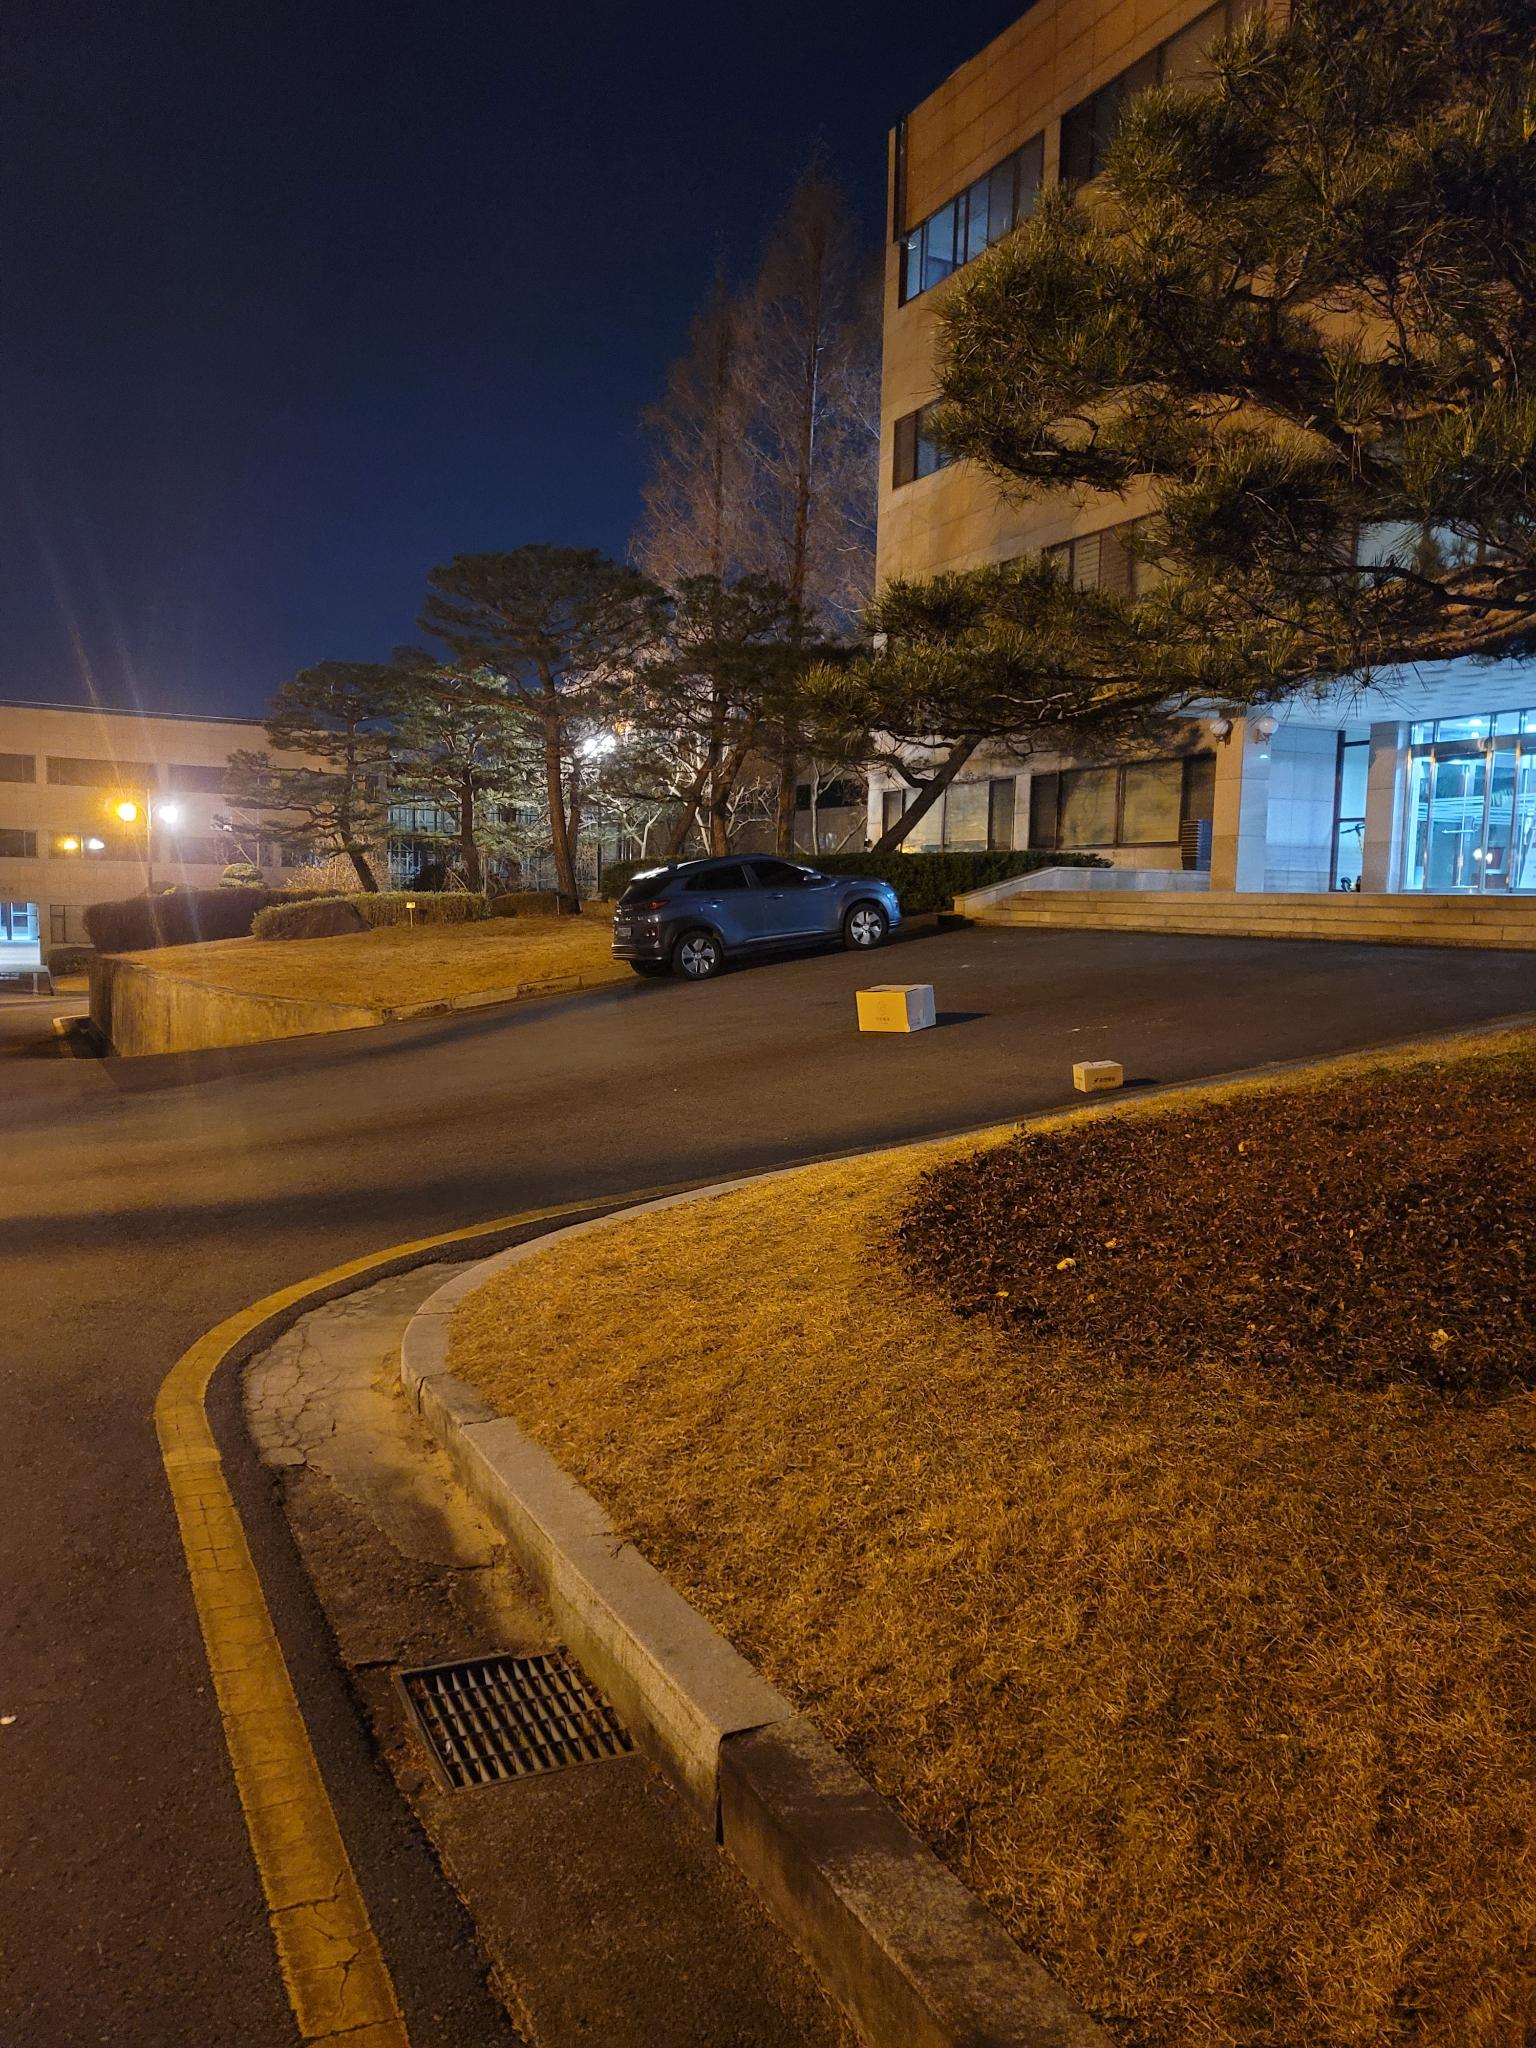Box: (850, 977, 929, 1035), (1063, 1048, 1126, 1100)
